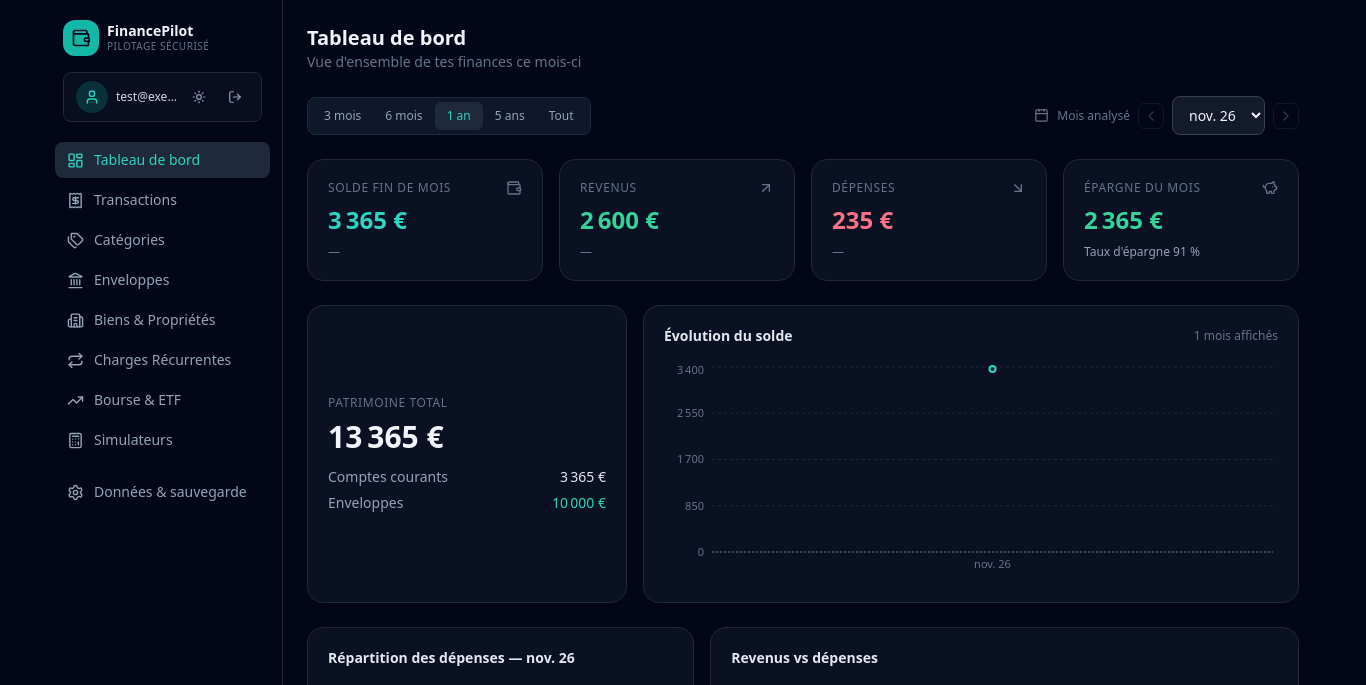
Test: Application › simulateur : affiche une projection d'épargne
Click the button "Simulateurs": (162, 440) [55,422,270,458]
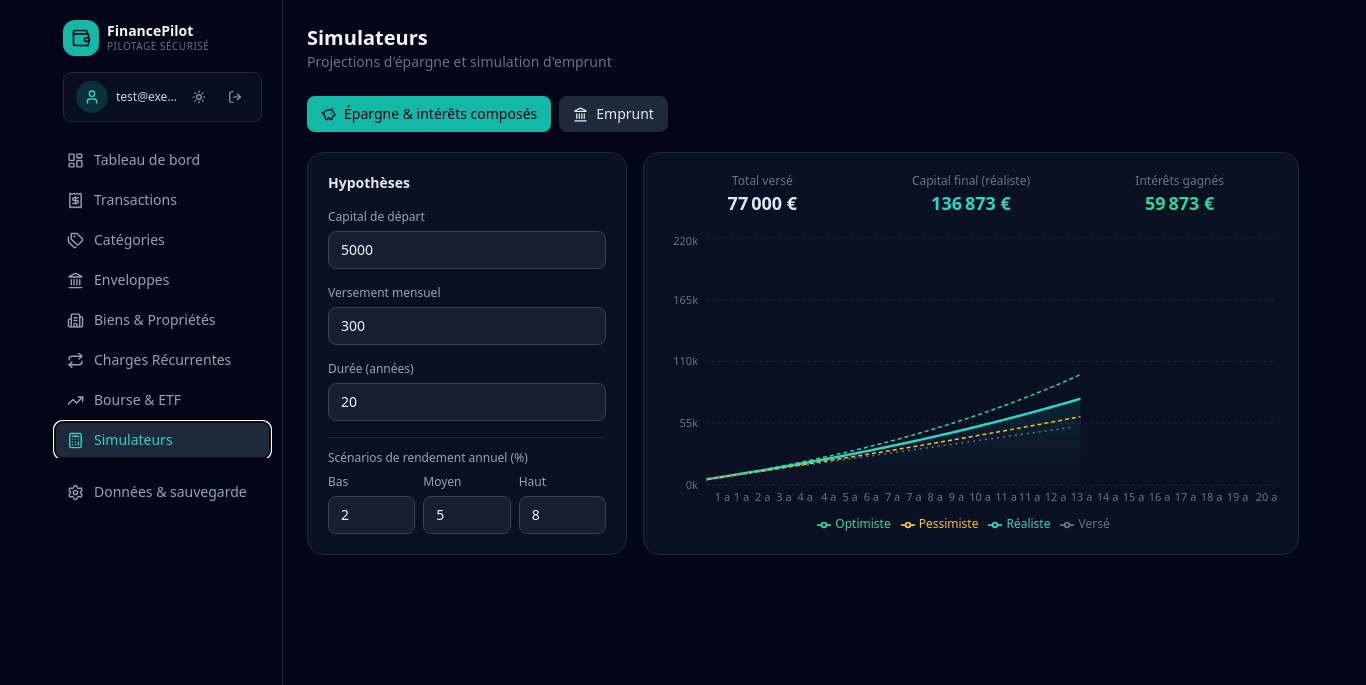
Check: the text "77 000 €" is shown, box [728,191,797,215]
